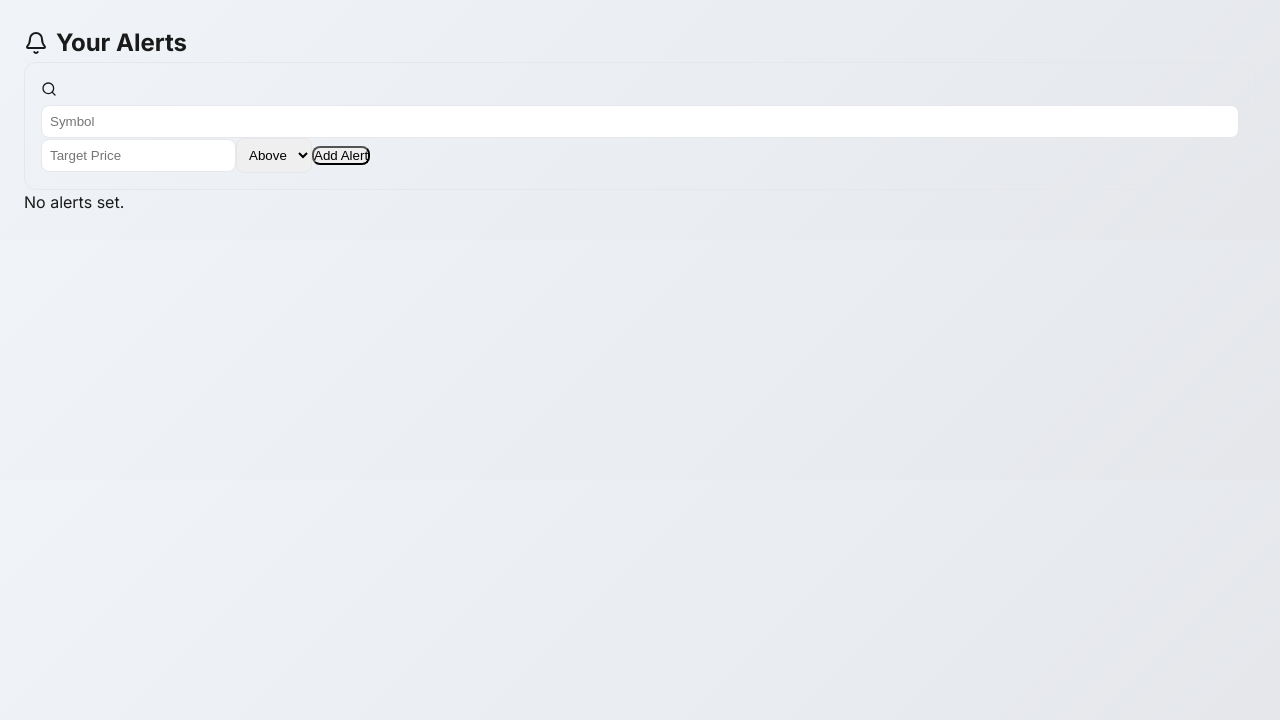
Test case: AlertsPage › validates before posting a new alert
This screenshot has width=1280, height=720.
Check: the text "No alerts set." is shown, box x1=24 y1=192 x2=124 y2=212
Click the button "Add Alert": coordinates (341, 156) x1=312 y1=146 x2=370 y2=165
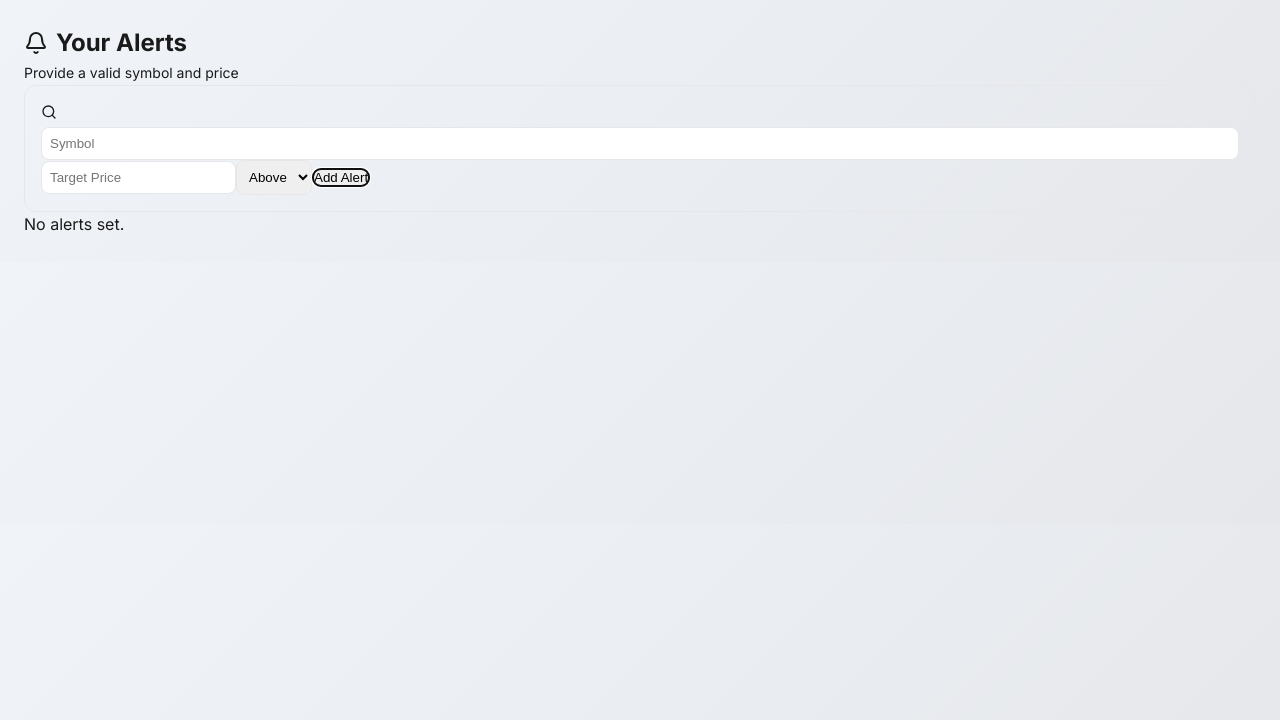
Check: the text "Provide a valid symbol and price" is shown, box x1=24 y1=64 x2=239 y2=81
